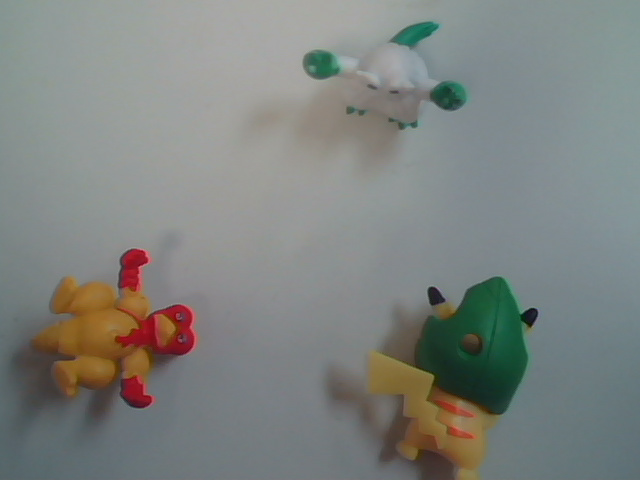abomasnow: (292, 4, 488, 209)
magmar: (17, 227, 246, 431)
pikachu: (350, 256, 579, 480)
